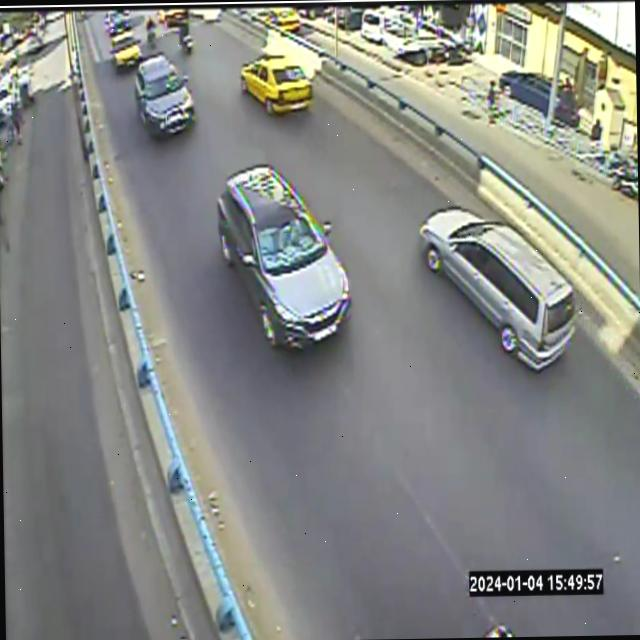car: (419, 206, 574, 368), (217, 164, 350, 347), (134, 53, 195, 137), (240, 54, 312, 113), (109, 28, 141, 70)
